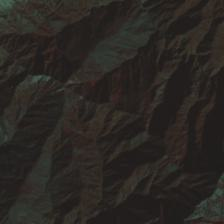landslides: (111, 71, 122, 102), (184, 216, 224, 224), (163, 101, 173, 124), (153, 110, 161, 136), (158, 110, 168, 130), (47, 48, 57, 67), (214, 205, 224, 220), (108, 55, 126, 61)
